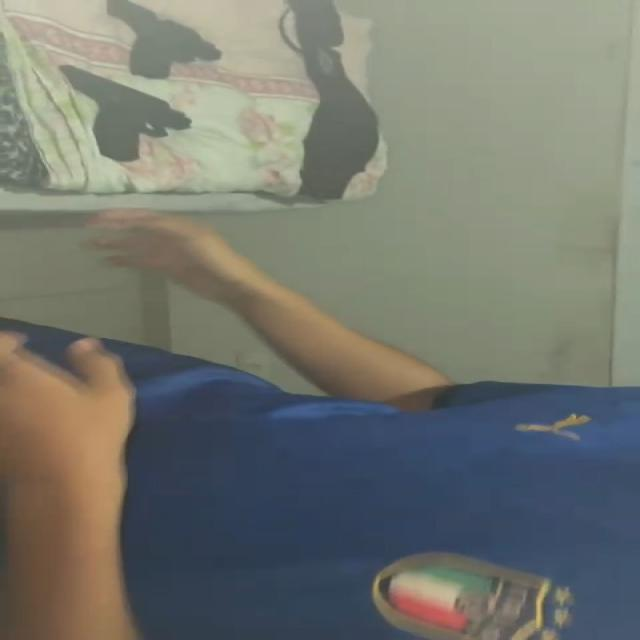gun: (56, 63, 198, 163), (106, 0, 226, 78)
